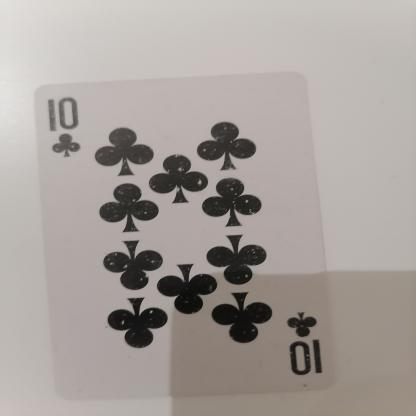10C: (270, 293, 334, 382), (42, 88, 90, 176)
